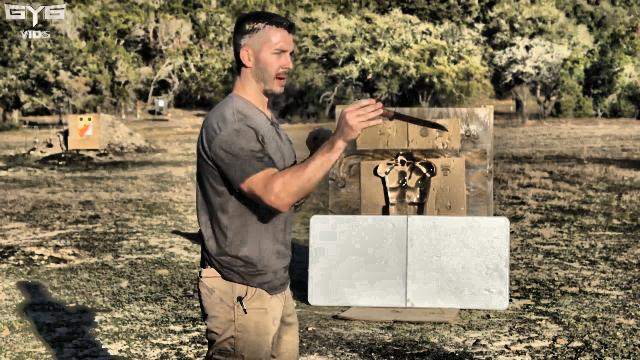knife: (350, 93, 454, 135)
